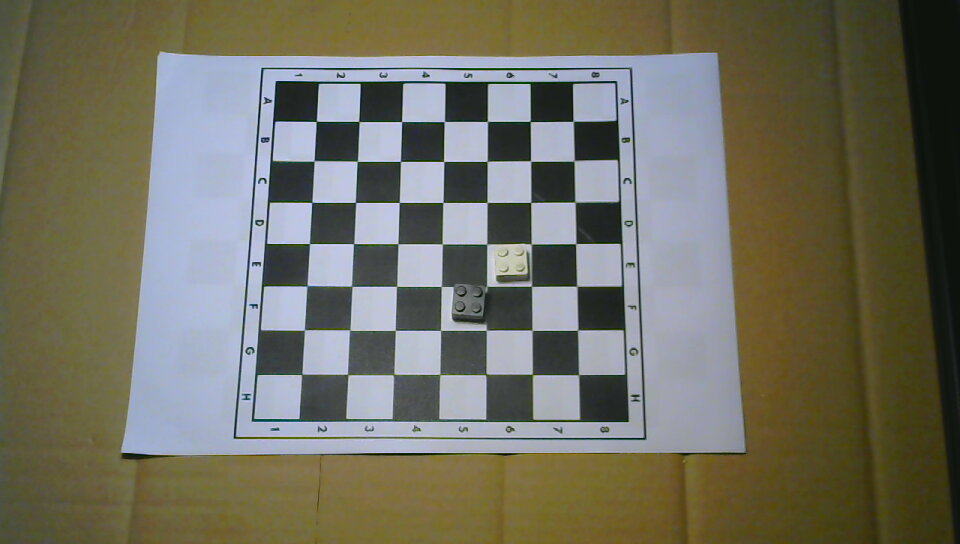bp: (450, 282, 486, 325)
wp: (494, 243, 530, 283)
